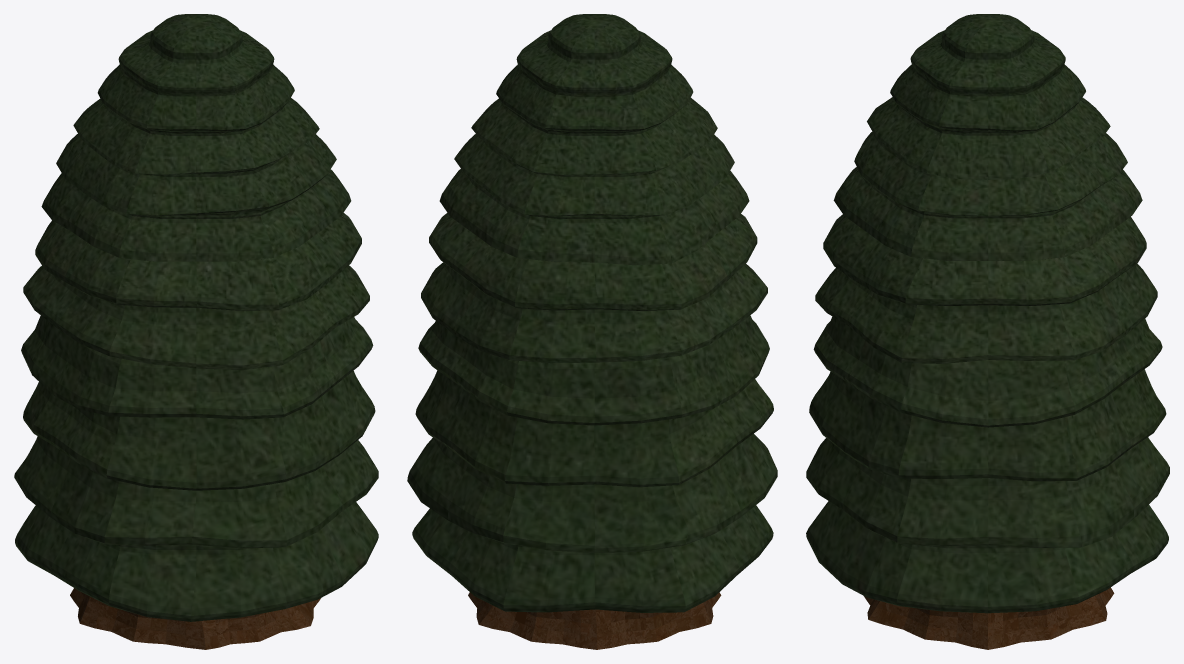
The model's file is DAEpinetree3.dae.
3 renders of one model, left to right at view 1: azimuth 30°, elevation 25°; view 2: azimuth 150°, elevation 25°; view 3: azimuth 270°, elevation 25°, orthographic.
Visible parts, largest first — view 1: TreeLow; view 2: TreeLow; view 3: TreeLow.
Part boxes in pixels (x1,y1,x2,y2): TreeLow: [14, 14, 378, 649]; TreeLow: [407, 14, 777, 649]; TreeLow: [806, 14, 1169, 649].
Size of the model in its own units: 1.23 by 1.33 by 2.3.
Materials: 1 (1 with a texture image).
